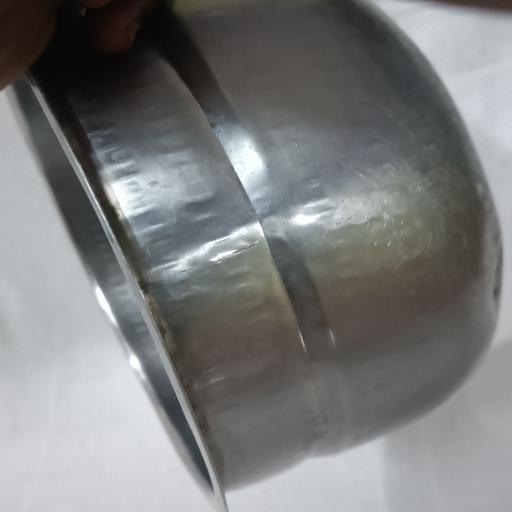vessel: (11, 0, 501, 509)
